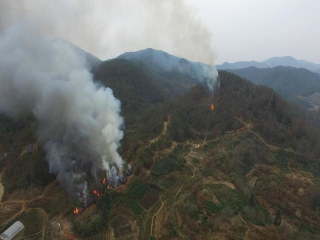smoke: (1, 8, 222, 205)
